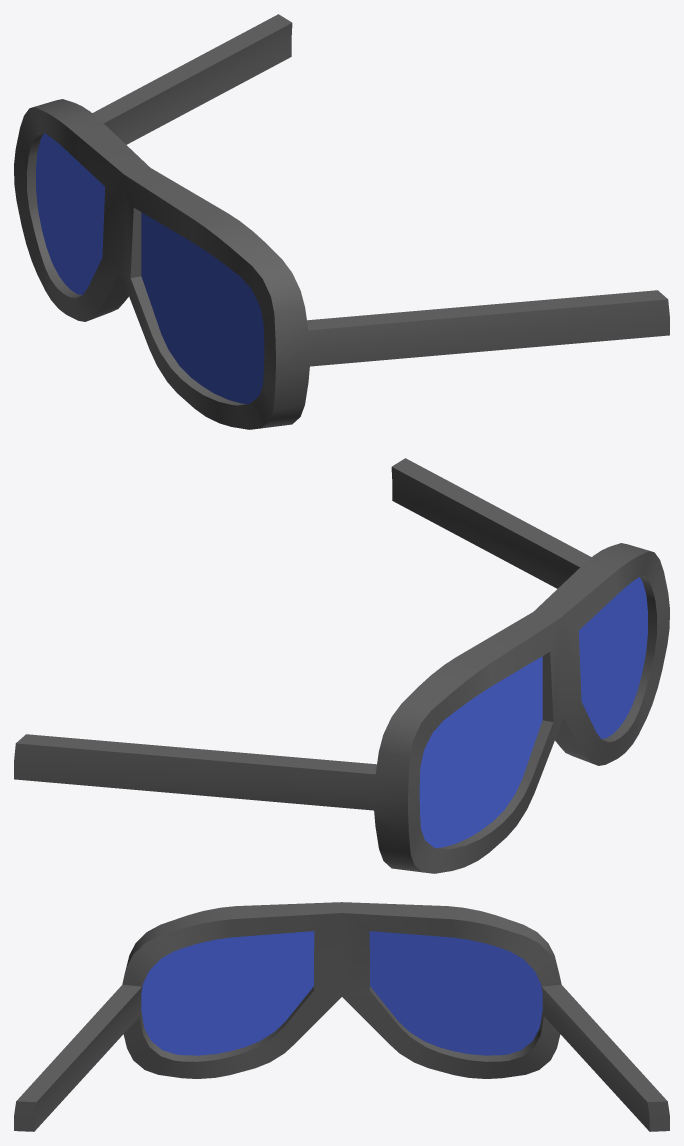
File: Glasses01.fbx
3 views of the same model, one above another, from view 1: azimuth 30°, elevation 25°; view 2: azimuth 150°, elevation 25°; view 3: azimuth 270°, elevation 25° (orthographic). The views are drawn at different scales.
Parts seen in each view (by area): view 1: Glasses01; view 2: Glasses01; view 3: Glasses01.
Boxes of the visible parts, box(x1,y1,x2,y2) form: Glasses01: box(14, 14, 669, 429); Glasses01: box(14, 458, 669, 873); Glasses01: box(14, 902, 669, 1131).
Size of the model in its own units: 0.4558 by 0.8624 by 0.2312.
